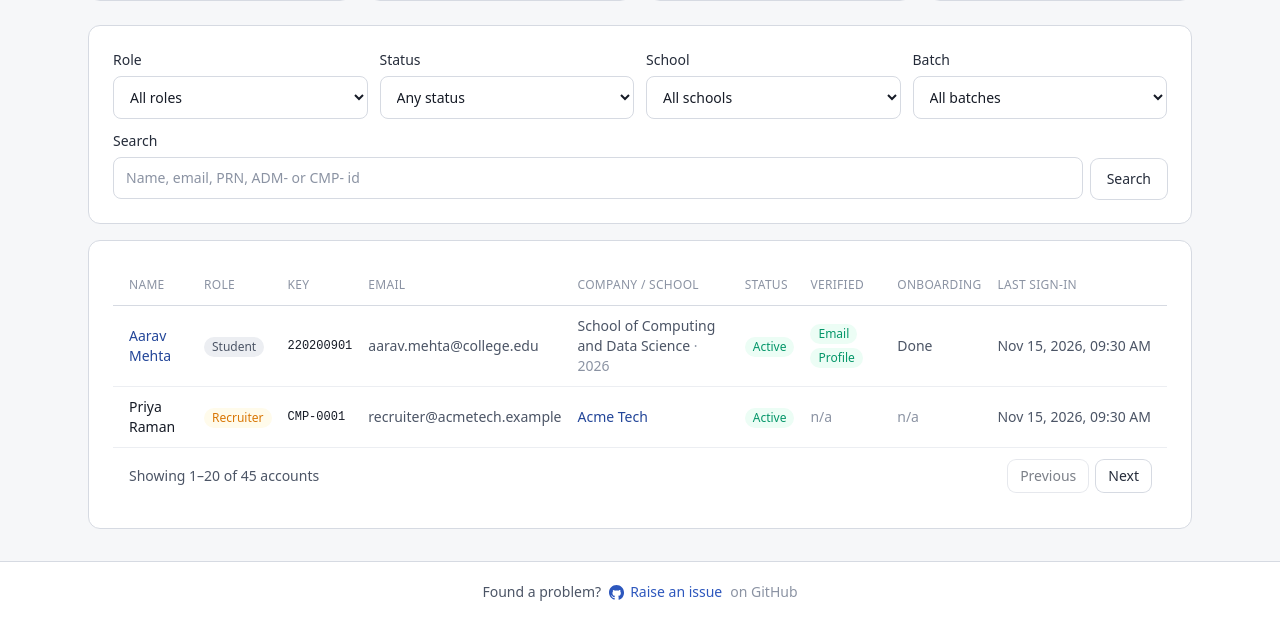
it: all users page › goes back to page one after clicking a role card
(page scrolled)
Expected: the text "Showing 1–20 of 45 accounts" is shown, [129,466,319,486]
Step 1. Click the button "Next" → [1124, 476], box [1096,460,1151,492]
(page scrolled)
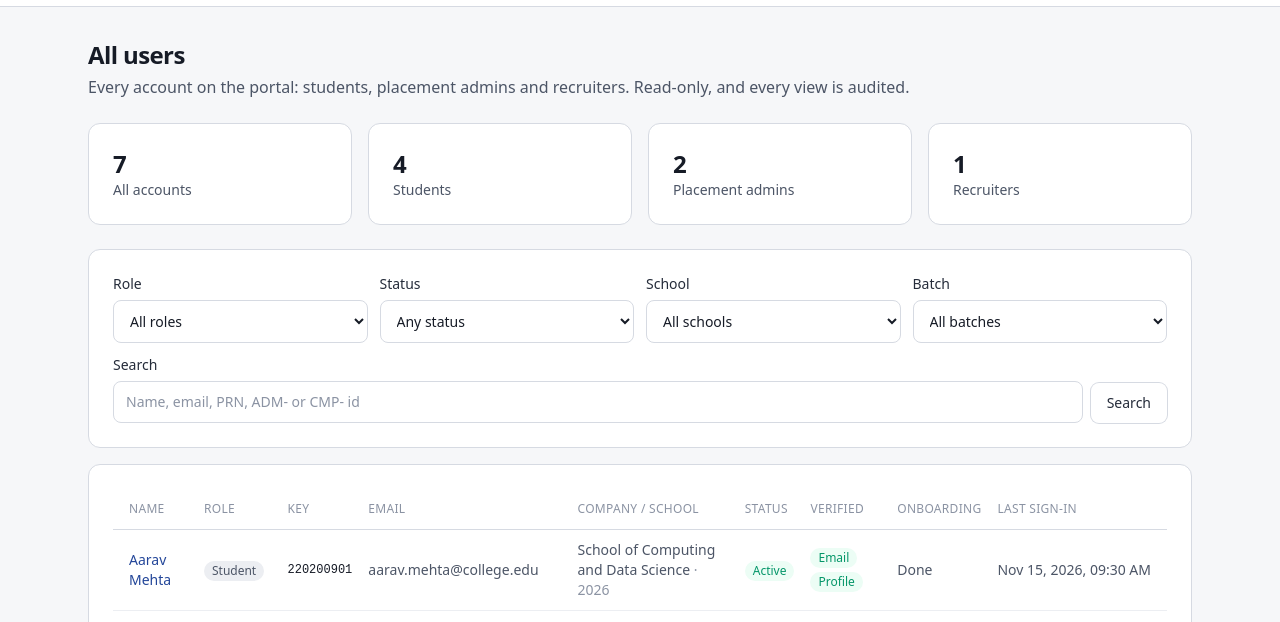
Step 2. Click the button "1 Recruiters" → [1060, 174], box [928,123,1192,225]
(page scrolled)
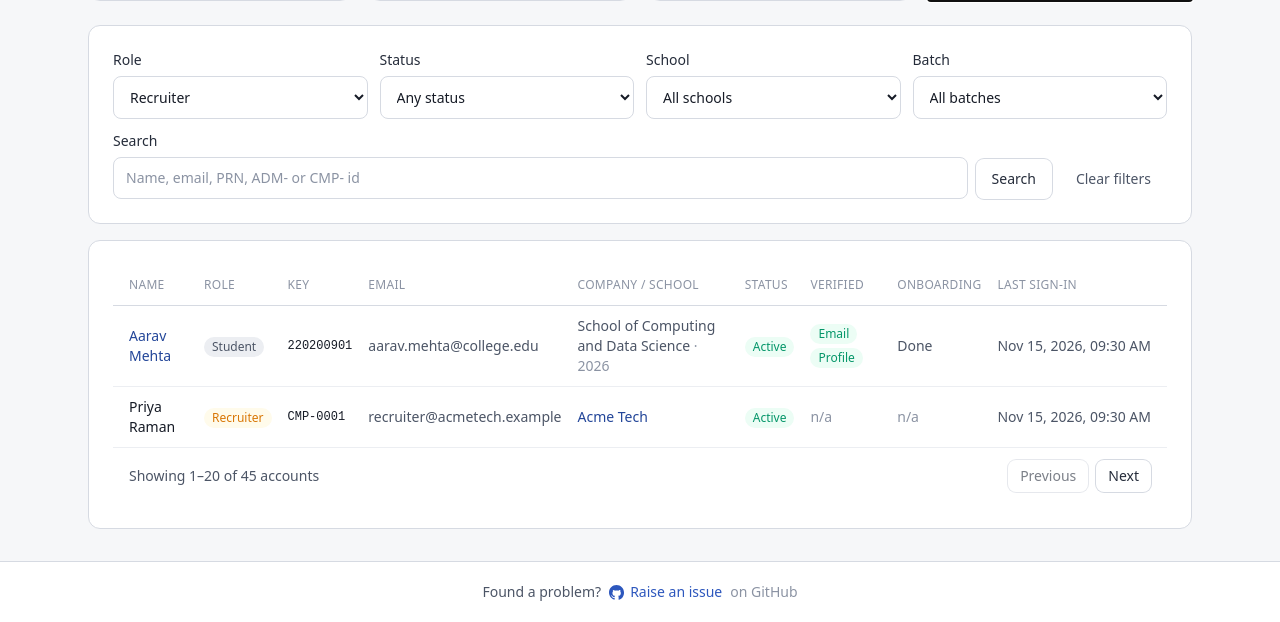
Result: the text "Showing 1–20 of 45 accounts" is shown at [129,466,319,486]
